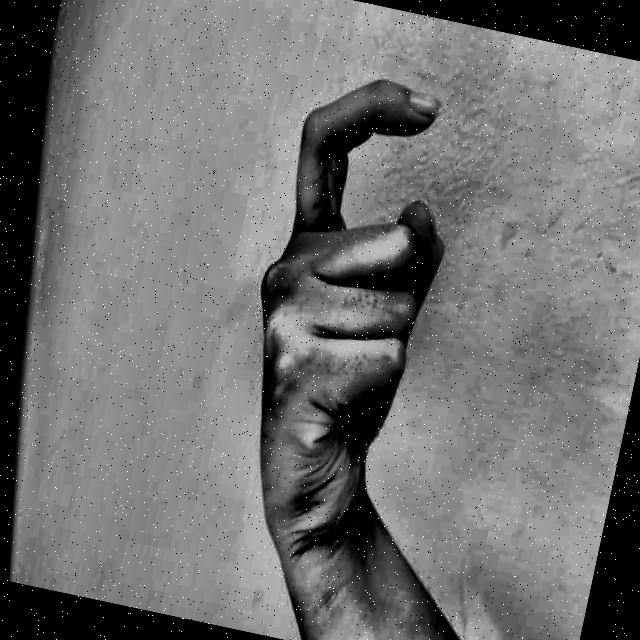E: (185, 28, 527, 564)
